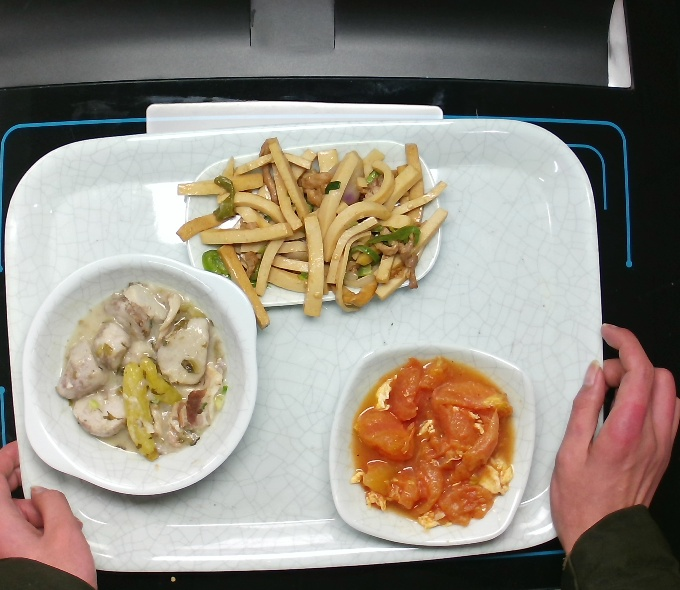wcq-FanQieChaoDan: (346, 351, 521, 534)
wcq-QianYeDouFu: (172, 133, 452, 334)
wcq-YangYu: (52, 276, 233, 467)
